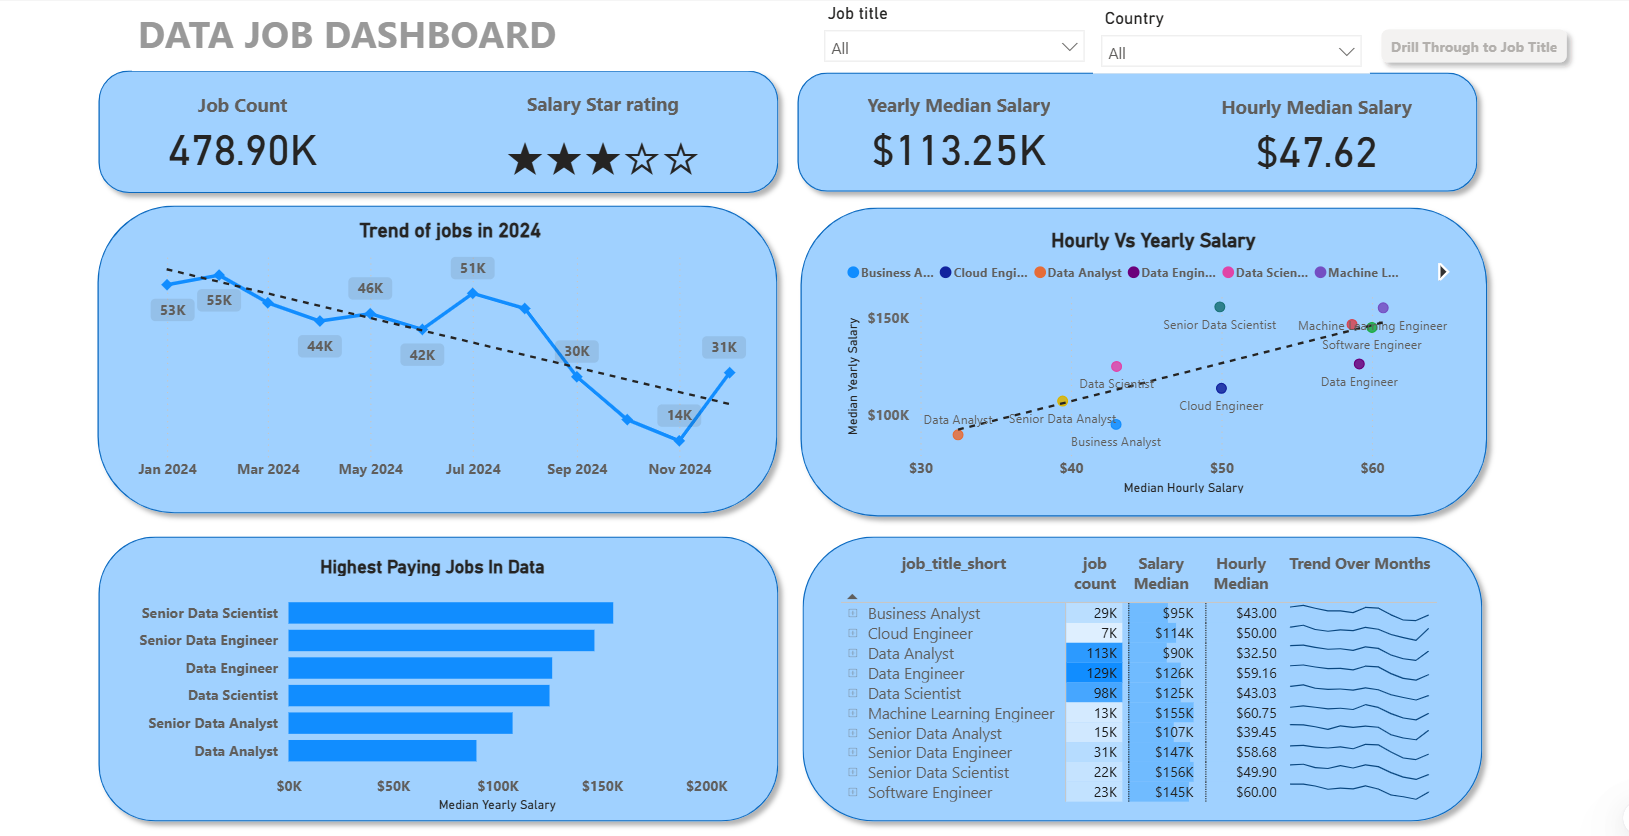

Layout of this report page (visuals, bound fields, positions):
{"tool":"powerbi","page":{"name":"Dashboard","canvas":[1280,720],"ordinal":0},"visuals":[{"type":"group","id":"g1","title":"Bg","box":[3.9,50.6,1208,660.4],"z":0},{"type":"shape","box":[5.1,50.6,600,122.9],"z":0,"group":"g1"},{"type":"shape","box":[603,52.7,600,120],"z":1000,"group":"g1"},{"type":"cardVisual","fields":{"Data":["Median(job_postings_flat.salary_year_avg)"]},"box":[608.3,61.2,284.6,95.8],"z":1000},{"type":"cardVisual","fields":{"Data":["Median(job_postings_flat.salary_hour_avg)"]},"box":[905.3,62.1,304.1,102],"z":2000},{"type":"shape","box":[605.9,168.3,605.9,282.4],"z":2000,"group":"g1"},{"type":"cardVisual","fields":{"Data":["job_postings_flat.Median of salary_year_avg star rating"]},"box":[304.1,60.3,284.6,110],"z":3000},{"type":"shape","box":[3.9,166.5,600,281.5],"z":3000,"group":"g1"},{"type":"lineChart","title":"Trend of jobs in 2024","fields":{"Y":["CountNonNull(job_postings_flat.job_title_short)"],"Category":["job_postings_flat.job_posted_date.Variation.Date Hierarchy.Year","job_postings_flat.job_posted_date.Variation.Date Hierarchy.Quarter","job_postings_flat.job_posted_date.Variation.Date Hierarchy.Month","job_postings_flat.job_posted_date.Variation.Date Hierarchy.Day"]},"box":[42.8,185.8,544.7,233.4],"z":4000},{"type":"shape","box":[4.4,449.3,600,262],"z":4000,"group":"g1"},{"type":"scatterChart","title":"Hourly Vs Yearly Salary","fields":{"Y":["job_postings_flat.salary_year_avg"],"X":["job_postings_flat.salary_hour_avg"],"Series":["job_postings_flat.job_title_short"]},"box":[649.7,194.5,535,232.5],"z":5000},{"type":"shape","box":[607.4,449.3,600,262],"z":5000,"group":"g1"},{"type":"pivotTable","fields":{"Rows":["job_postings_flat.job_title_short","job_postings_flat.job_posted_date.Variation.Date Hierarchy.Quarter"],"Values":["CountNonNull(job_postings_flat.job_title_short)","Median(job_postings_flat.salary_year_avg)","Median(job_postings_flat.salary_hour_avg)","SparklineData(CountNonNull(job_postings_flat.job_title_short)_[job_postings_flat.job_posted_date.Variation.Date Hierarch"]},"box":[644.6,467.3,544.4,224.3],"z":6000},{"type":"barChart","title":"Highest Paying Jobs In Data","fields":{"Category":["job_postings_flat.job_title_short"],"Y":["Median(job_postings_flat.salary_year_avg)"]},"box":[42.8,474.7,514.5,224.7],"z":7000},{"type":"textbox","box":[42.6,0,544.4,60.3],"z":8000},{"type":"slicer","fields":{"Values":["job_postings_flat.job_title_short"]},"box":[628.7,0,236.7,60.3],"z":9000},{"type":"cardVisual","fields":{"Data":["CountNonNull(job_postings_flat.job_title_short)"]},"box":[0,61.2,275.8,102.9],"z":10000},{"type":"actionButton","box":[1103.9,15.1,176.5,46.1],"z":11000},{"type":"slicer","fields":{"Values":["job_postings_flat.search_location"]},"box":[865.4,4.4,236.7,57.6],"z":12000}]}

Visuals, with their boxes on the page's 1280x720 design canvas (x1, y1, x2, y2). These are canvas units, not pixel positions in the 1629x836 screenshot, which may show the page scaled, cropped or inside an application window:
"Bg" group: 4:51:1212:711
shape: 5:51:605:174
shape: 603:53:1203:173
cardVisual - Median(job_postings_flat.salary_year_avg): 608:61:893:157
cardVisual - Median(job_postings_flat.salary_hour_avg): 905:62:1209:164
shape: 606:168:1212:451
cardVisual - job_postings_flat.Median of salary_year_avg star rating: 304:60:589:170
shape: 4:166:604:448
"Trend of jobs in 2024" lineChart: 43:186:588:419
shape: 4:449:604:711
"Hourly Vs Yearly Salary" scatterChart: 650:194:1185:427
shape: 607:449:1207:711
pivotTable - job_postings_flat.job_title_short x job_postings_flat.job_posted_date.Variation.Date Hierarchy.Quarter: 645:467:1189:692
"Highest Paying Jobs In Data" barChart: 43:475:557:699
textbox: 43:0:587:60
slicer - job_postings_flat.job_title_short: 629:0:865:60
cardVisual - CountNonNull(job_postings_flat.job_title_short): 0:61:276:164
actionButton: 1104:15:1280:61
slicer - job_postings_flat.search_location: 865:4:1102:62
